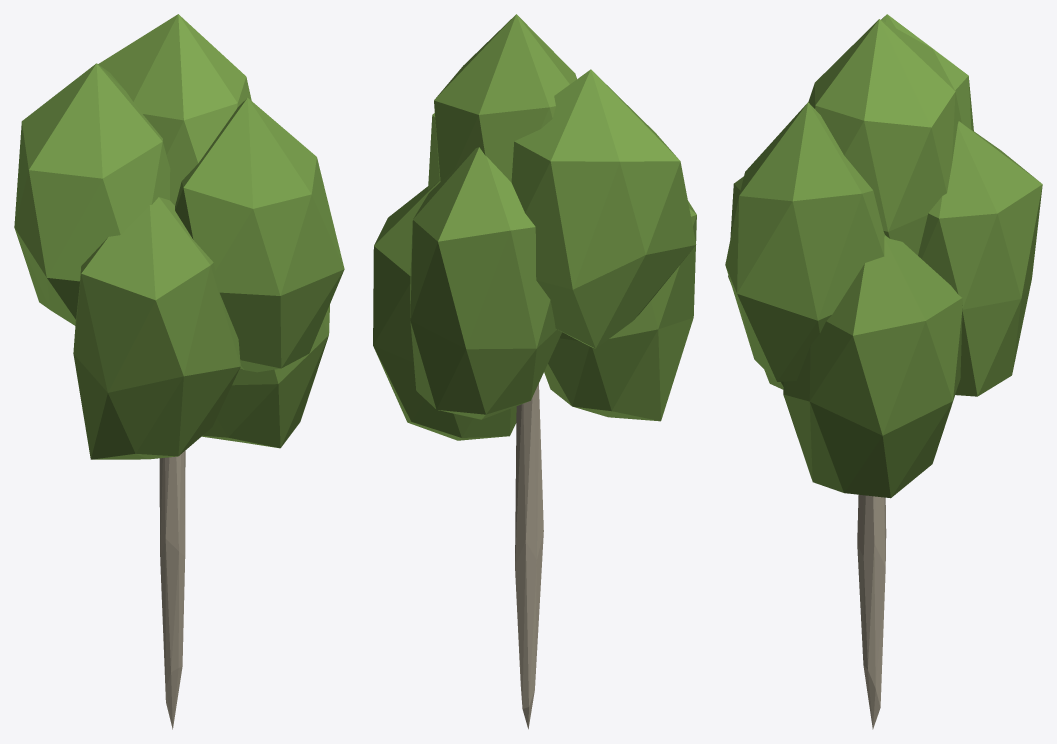
Rendered from birch.glb.
3 renders of one model, left to right at view 1: azimuth 30°, elevation 25°; view 2: azimuth 150°, elevation 25°; view 3: azimuth 270°, elevation 25°, orthographic.
Bounding box in the file's own units: 5.18 × 11.85 × 4.77.
1 material, 1 textured.
